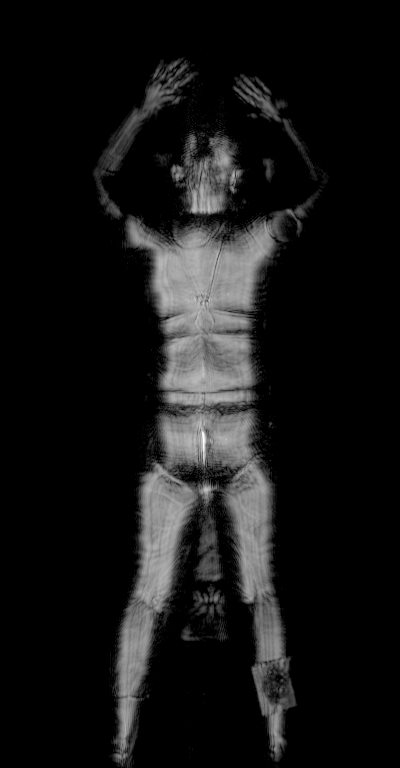head: (166, 126, 247, 196)
others: (251, 652, 297, 722), (264, 206, 306, 247)
person: (93, 57, 322, 768)
